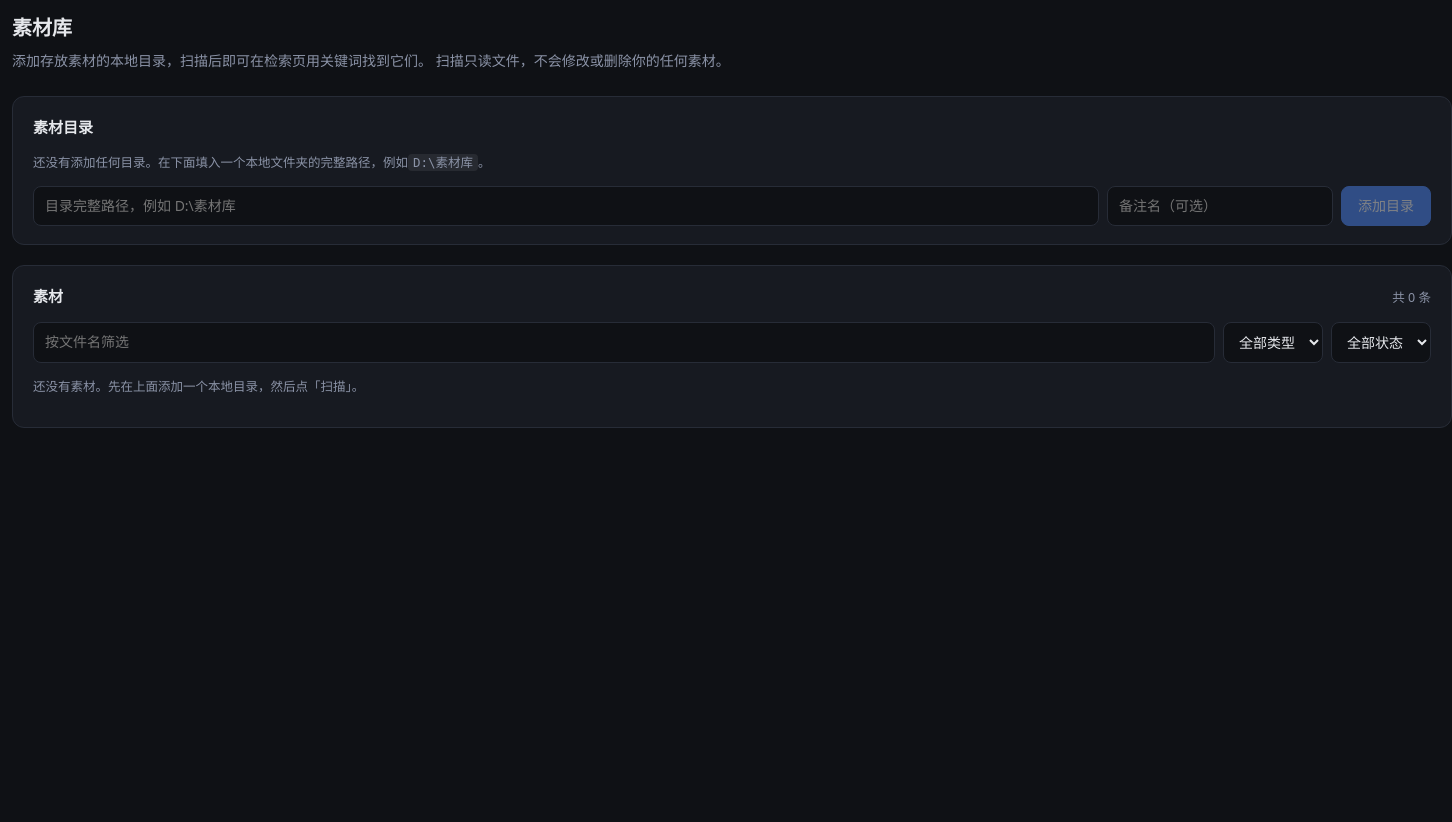
Test case: 素材库页面 › 添加目录后出现在列表里，并提示该扫描了
expect the text "还没有添加任何目录" is shown: met, box [33, 154, 408, 171]
Type "D:\\素材库" into the field with placeholder "目录完整路径，例如 D:\\素材库" at point(566, 206), box [33, 186, 1099, 226]
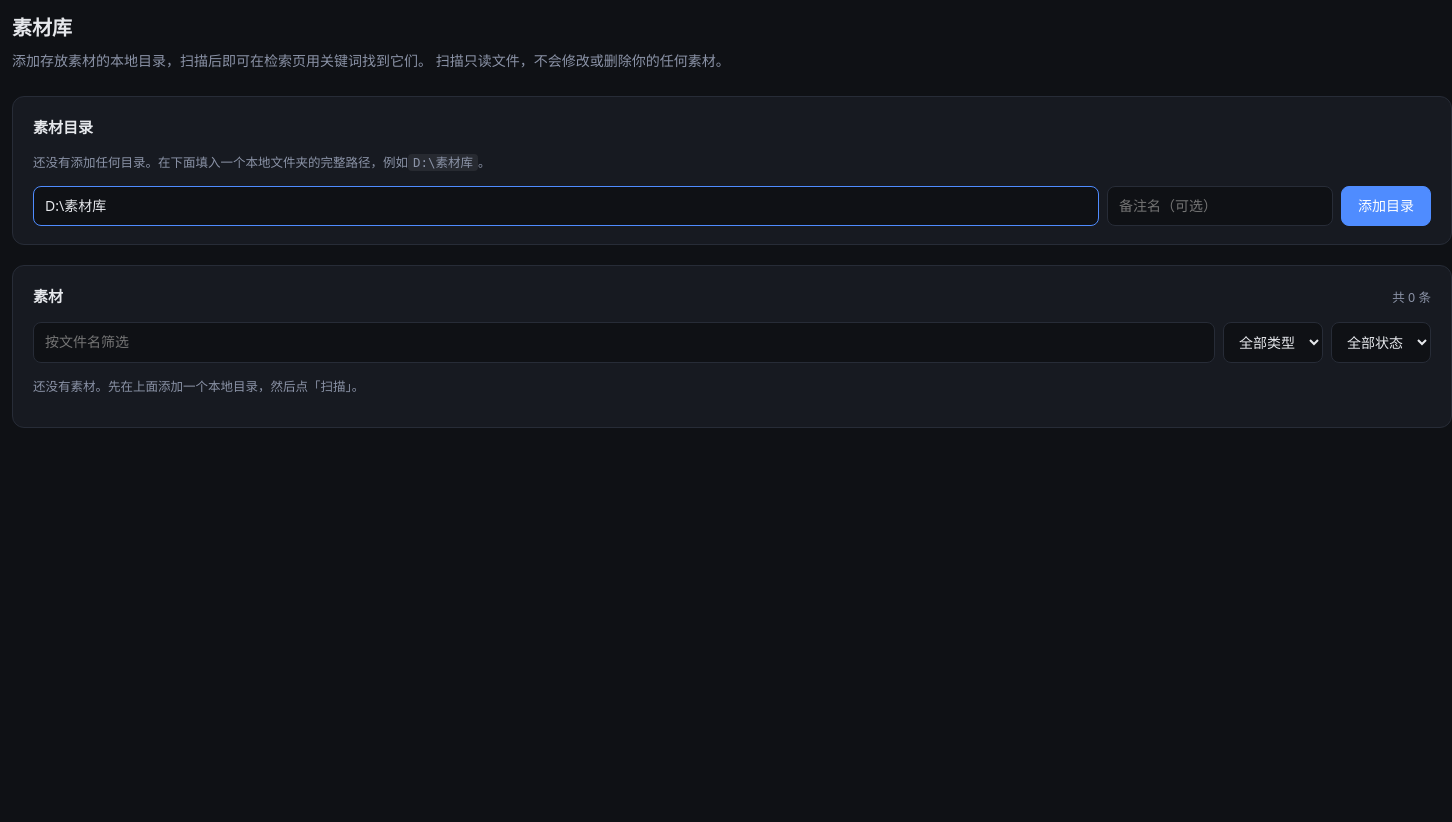
Click the button "添加目录" at point(1386, 206), box [1341, 186, 1431, 226]
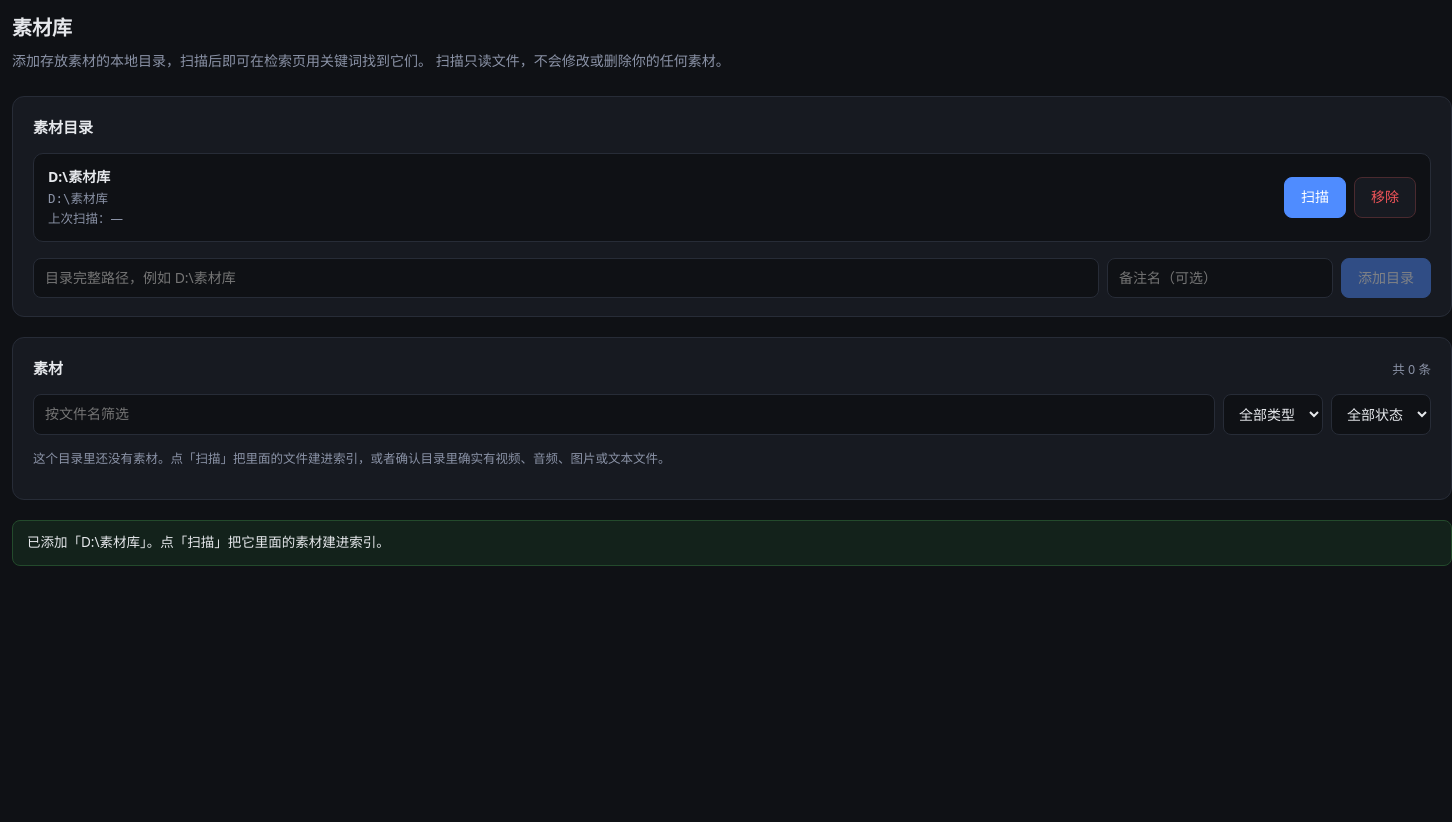
expect the text "已添加「D:\\素材库」。点「扫描」把它里面的素材建进索引。" is shown: met, box [12, 520, 1451, 566]
